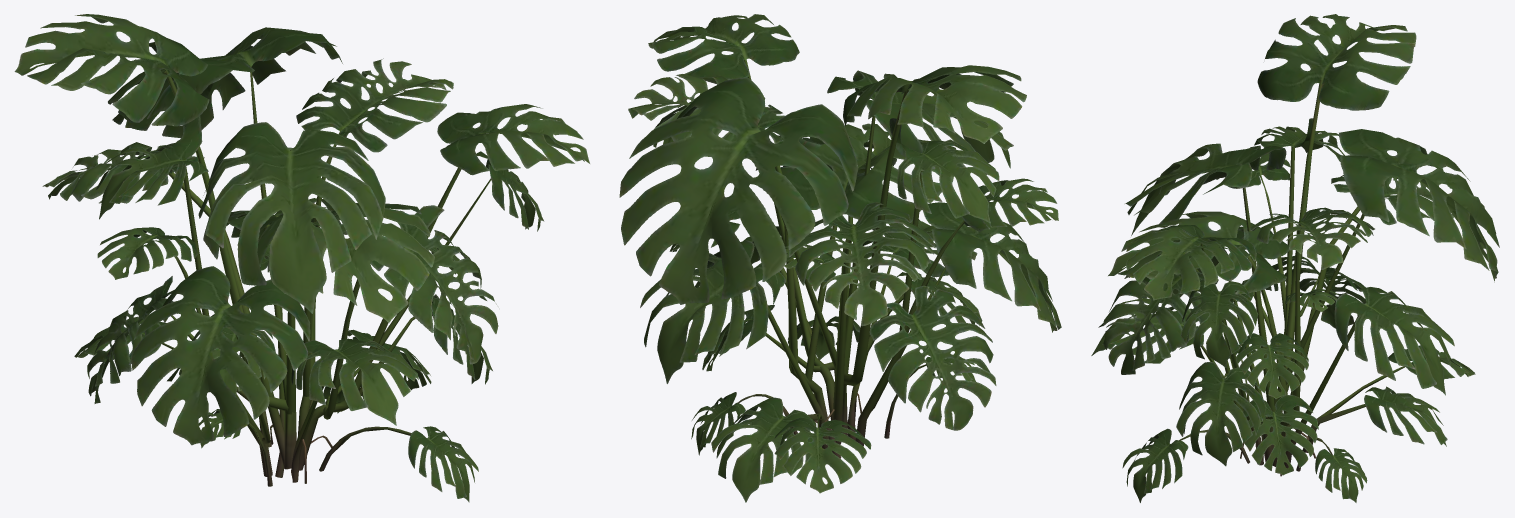
File: leaf-monstera-real.glb
3 views of the same model, side by side, from view 1: azimuth 30°, elevation 25°; view 2: azimuth 150°, elevation 25°; view 3: azimuth 270°, elevation 25° (orthographic). The views are drawn at different scales.
Parts seen in each view (by area): view 1: plant; view 2: plant; view 3: plant.
Boxes of the visible parts, bbox=[...] form: plant: bbox=[14, 14, 589, 502]; plant: bbox=[619, 14, 1061, 502]; plant: bbox=[1091, 14, 1499, 502].
Size of the model in its own units: 1.07 by 1 by 0.9756.
Materials: 1 (1 with a texture image).
